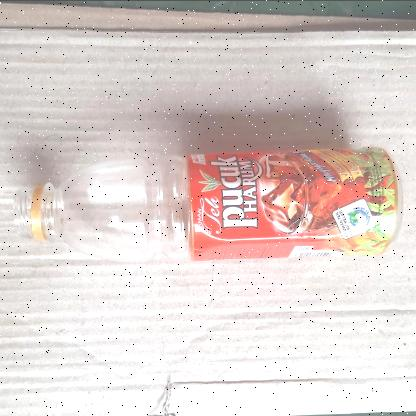Plastic Bottle: (12, 144, 402, 262)
